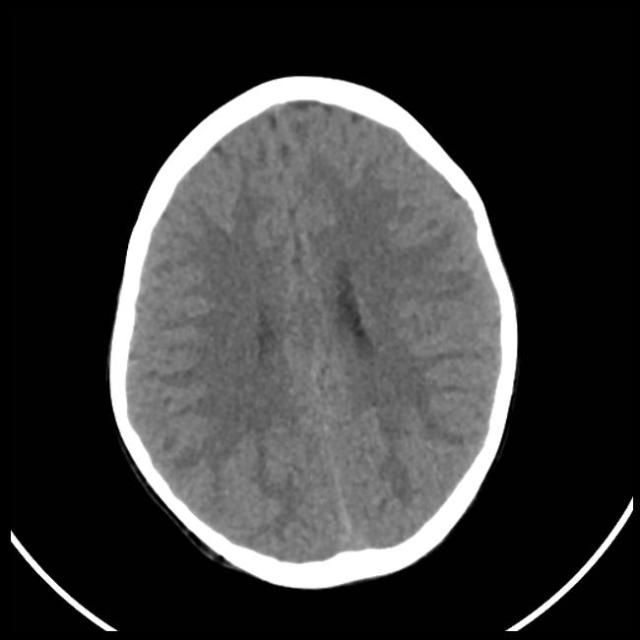lesion: (107, 79, 521, 580)
